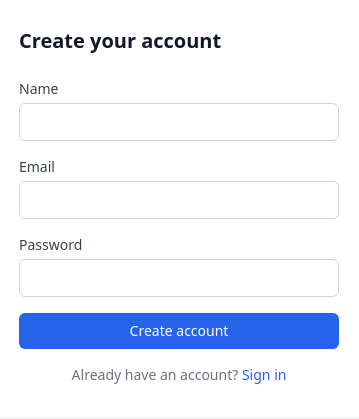
Test: RegisterScreen › shows a human-readable message for EMAIL_ALREADY_EXISTS — never the raw code
Type "Alice" into the field labelled "Name".
click(179, 122); type("Alice")  # box [19,103,339,141]
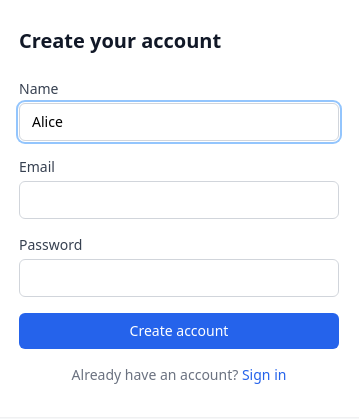
Type "alice@example.com" into the field labelled "Email".
click(179, 200); type("alice@example.com")  # box [19,181,339,219]
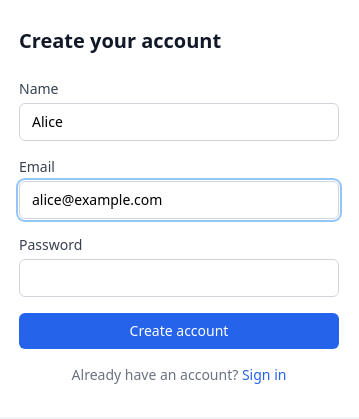
Type "password123" into the password field labelled "Password".
click(179, 278); type("password123")  # box [19,259,339,297]
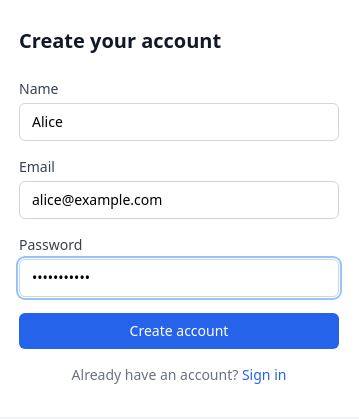
Click the button "Create account".
click(179, 331)  # box [19,313,339,349]
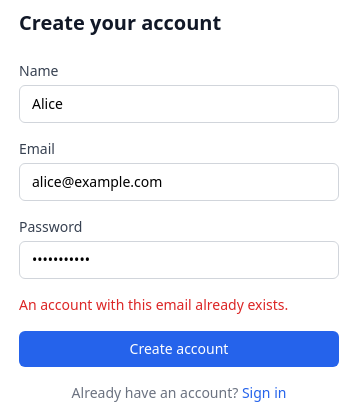
Expected: the text "An account with this email already exists." is shown, [19,295,288,314]
